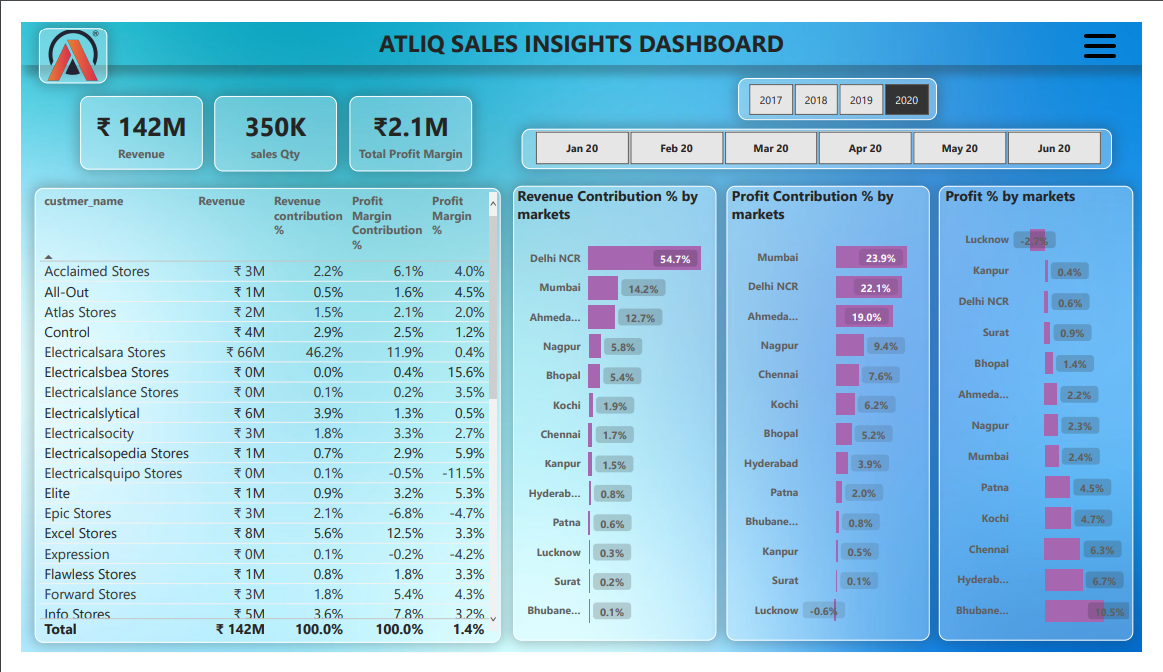

This screenshot's page, from the dashboard's own definition file:
{"tool":"powerbi","page":{"name":"Profit Analysis","canvas":[1280,720],"ordinal":1},"visuals":[{"type":"textbox","box":[0,0,1280.5,49.8],"z":0},{"type":"image","box":[1210.2,4.4,45.4,45.4],"z":1000},{"type":"shape","box":[67.5,84.4,139.9,84.4],"z":6000},{"type":"shape","box":[375.1,84.4,139.9,85.6],"z":7000},{"type":"shape","box":[220.7,84.4,139.9,85.6],"z":8000},{"type":"shape","box":[15.7,189.3,531.9,518.6],"z":9000},{"type":"shape","box":[562,186.9,231.6,518.6],"z":10000},{"type":"shape","box":[805.6,186.9,231.6,518.6],"z":11000},{"type":"shape","box":[1048,186.9,221.9,518.6],"z":12000},{"type":"shape","box":[818.9,63.9,226.7,48.2],"z":13000},{"type":"shape","box":[571.7,121.8,674.2,45.8],"z":14000},{"type":"shape","box":[20.5,6,78.4,63.9],"z":15000},{"type":"tableEx","title":"Top 5 customer","fields":{"Values":["sales customers.custmer_name","Base Measures 2.Revenue","Base Measures 2.Revenue contribution %","Base Measures 2.Profit Margin Contribution %","Base Measures 2.Profit Margin %"]},"box":[15.7,189.3,533.1,518.6],"z":16000},{"type":"slicer","fields":{"Values":["sales date.year"]},"box":[805.6,63.9,254.5,49.4],"z":17000},{"type":"slicer","fields":{"Values":["sales date.cy_date"]},"box":[562,118.2,694.7,50.7],"z":18000},{"type":"card","fields":{"Values":["Base Measures 2.Total Profit Margin"]},"box":[379.9,88,131.5,79.6],"z":19000},{"type":"card","fields":{"Values":["Base Measures 2.sales Qty"]},"box":[220.7,88,139.9,79.6],"z":20000},{"type":"card","fields":{"Values":["Base Measures 2.Revenue"]},"box":[67.5,88,139.9,79.6],"z":21000},{"type":"barChart","title":"Revenue Contribution % by markets","fields":{"Category":["sales markets.markets_name"],"Y":["Base Measures 2.Revenue contribution %"]},"box":[562,186.9,231.6,517.4],"z":22000},{"type":"barChart","title":"Profit Contribution % by markets","fields":{"Category":["sales markets.markets_name"],"Y":["Base Measures 2.Profit Margin Contribution %"]},"box":[806.8,186.9,230.4,515],"z":23000},{"type":"barChart","title":"Profit % by markets","fields":{"Category":["sales markets.markets_name"],"Y":["Base Measures 2.Profit Margin %"]},"box":[1050.5,186.9,219.5,517.4],"z":24000},{"type":"image","box":[15.7,2.4,88,68.7],"z":25000}]}

Visuals, with their boxes in screenshot pixels (x1, y1, x2, y2), scaled from the page's 1280x720 canvas onto the 1163x672 screenshot:
textbox: 0:0:1162:46
image: 1100:4:1141:46
shape: 61:79:188:158
shape: 341:79:468:159
shape: 201:79:328:159
shape: 14:177:498:661
shape: 511:174:721:658
shape: 732:174:942:658
shape: 952:174:1154:658
shape: 744:60:950:105
shape: 519:114:1132:156
shape: 19:6:90:65
"Top 5 customer" tableEx: 14:177:499:661
slicer - sales date.year: 732:60:963:106
slicer - sales date.cy_date: 511:110:1142:158
card - Base Measures 2.Total Profit Margin: 345:82:465:156
card - Base Measures 2.sales Qty: 201:82:328:156
card - Base Measures 2.Revenue: 61:82:188:156
"Revenue Contribution % by markets" barChart: 511:174:721:657
"Profit Contribution % by markets" barChart: 733:174:942:655
"Profit % by markets" barChart: 954:174:1154:657
image: 14:2:94:66
